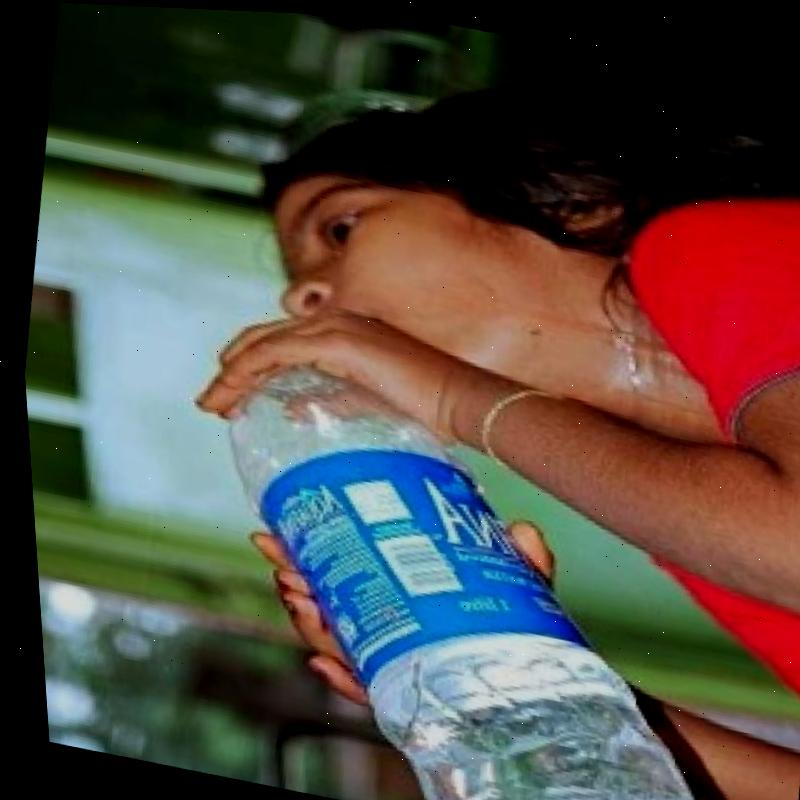botella: (158, 343, 749, 800)
